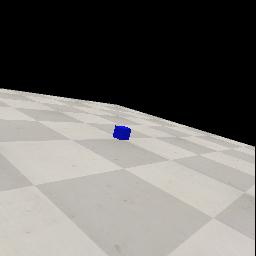box: (113, 125, 131, 140)
